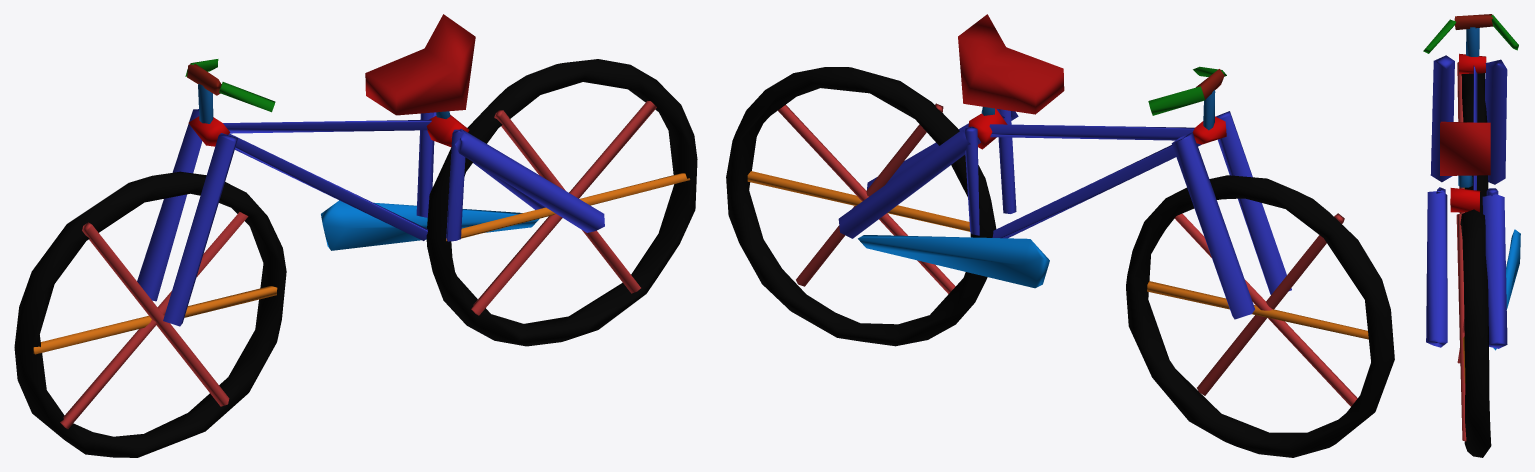
File: bicycle.obj
3 renders of one model, left to right at view 1: azimuth 30°, elevation 25°; view 2: azimuth 150°, elevation 25°; view 3: azimuth 270°, elevation 25°, orthographic. The views are drawn at different scales.
Parts seen in each view (by area): view 1: mmGroup0; view 2: mmGroup0; view 3: mmGroup0.
Part boxes in pixels (x1,y1,x2,y2): mmGroup0: (14, 14, 697, 457); mmGroup0: (726, 14, 1394, 457); mmGroup0: (1423, 14, 1520, 457).
Bounding box in the file's own units: 12.54 × 6.53 × 1.93.
